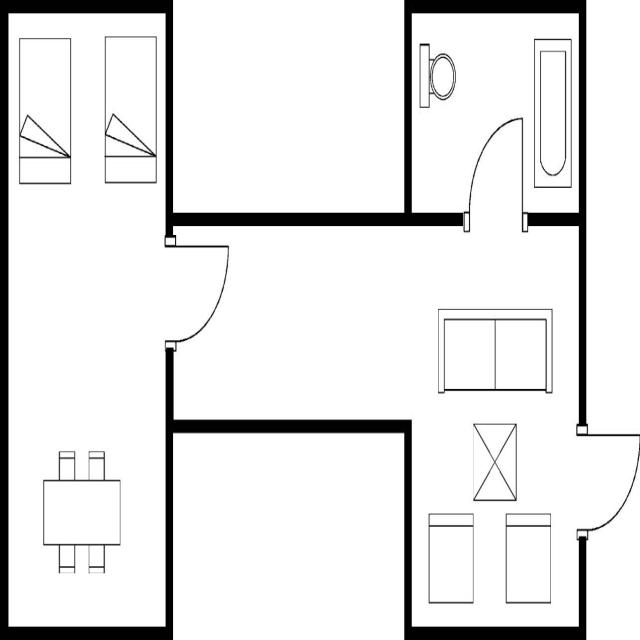bed: (15, 30, 76, 192), (100, 31, 160, 192)
coffee_table: (468, 414, 522, 506)
dining_table: (34, 444, 124, 583)
large_sink: (416, 35, 458, 115)
large_sofa: (433, 298, 555, 399)
small_sofa: (423, 505, 478, 609), (500, 505, 554, 609)
tub: (530, 32, 576, 194)
